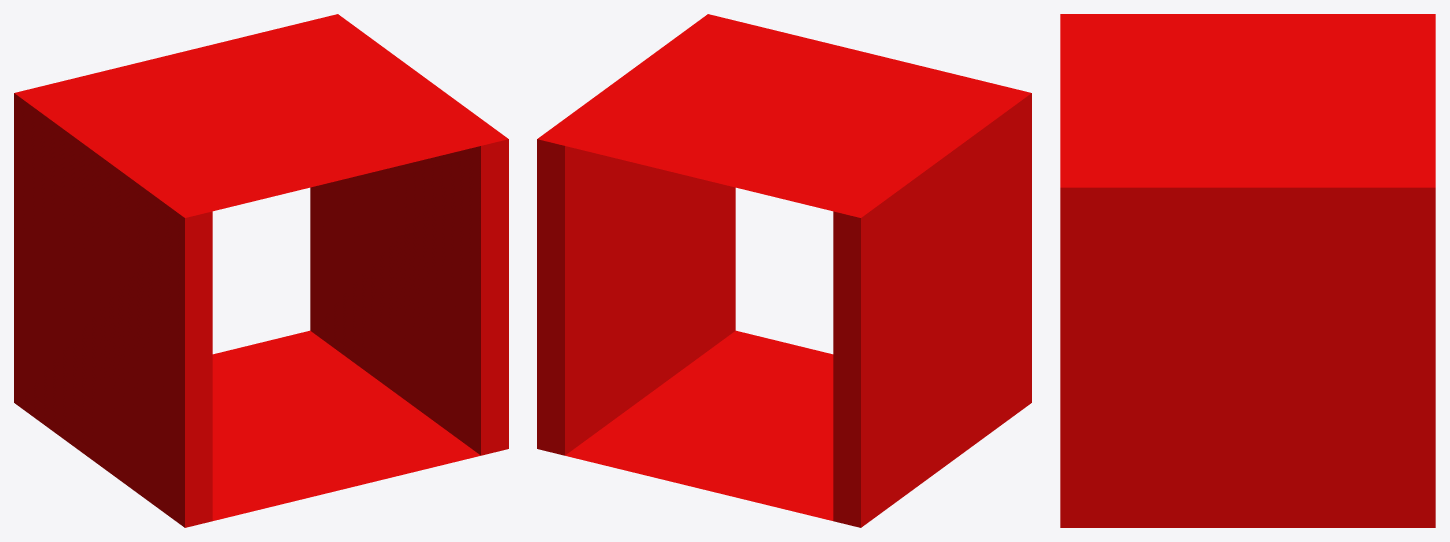
File: cave_corridor.dae
3 renders of one model, left to right at view 1: azimuth 30°, elevation 25°; view 2: azimuth 150°, elevation 25°; view 3: azimuth 270°, elevation 25°, orthographic. The views are drawn at different scales.
Parts seen in each view (by area): view 1: Cube.001, Cube, Plane.001, Plane; view 2: Cube.001, Cube, Plane.001, Plane; view 3: Cube, Plane.001, Cube.001.
Part boxes in pixels (box(x1,y1,x2,y2)): Cube.001: box(14, 86, 212, 527); Cube: box(310, 14, 508, 455); Plane.001: box(32, 19, 480, 213); Plane: box(212, 330, 480, 520); Cube.001: box(833, 86, 1031, 527); Cube: box(537, 14, 735, 455); Plane.001: box(565, 19, 1003, 214); Plane: box(565, 330, 833, 520); Cube: box(1060, 174, 1435, 527); Plane.001: box(1060, 21, 1435, 180); Cube.001: box(1060, 14, 1435, 28).
Bounding box in the file's own units: 280 × 256 × 256.
